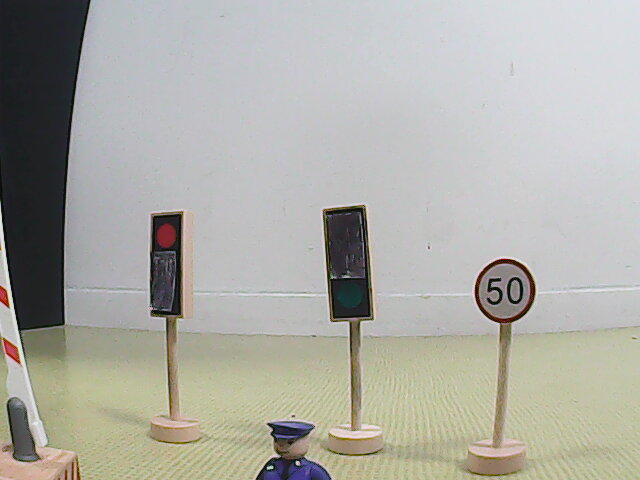barrier_up: (1, 191, 90, 479)
green_traffic_sign: (322, 205, 374, 322)
person: (254, 419, 335, 480)
red_traffic_sign: (149, 213, 194, 317)
sign_50: (473, 258, 538, 324)
